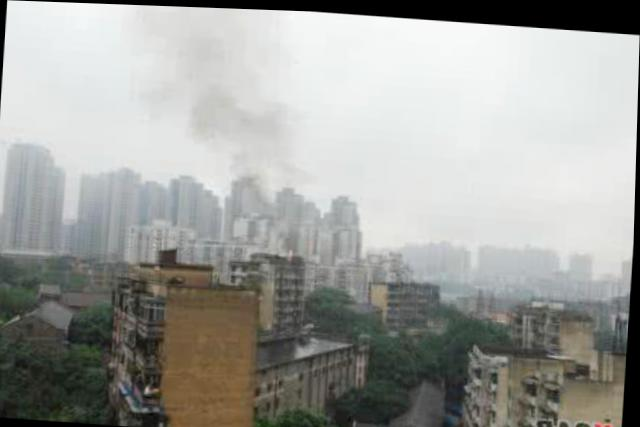smoke: (191, 85, 322, 178)
